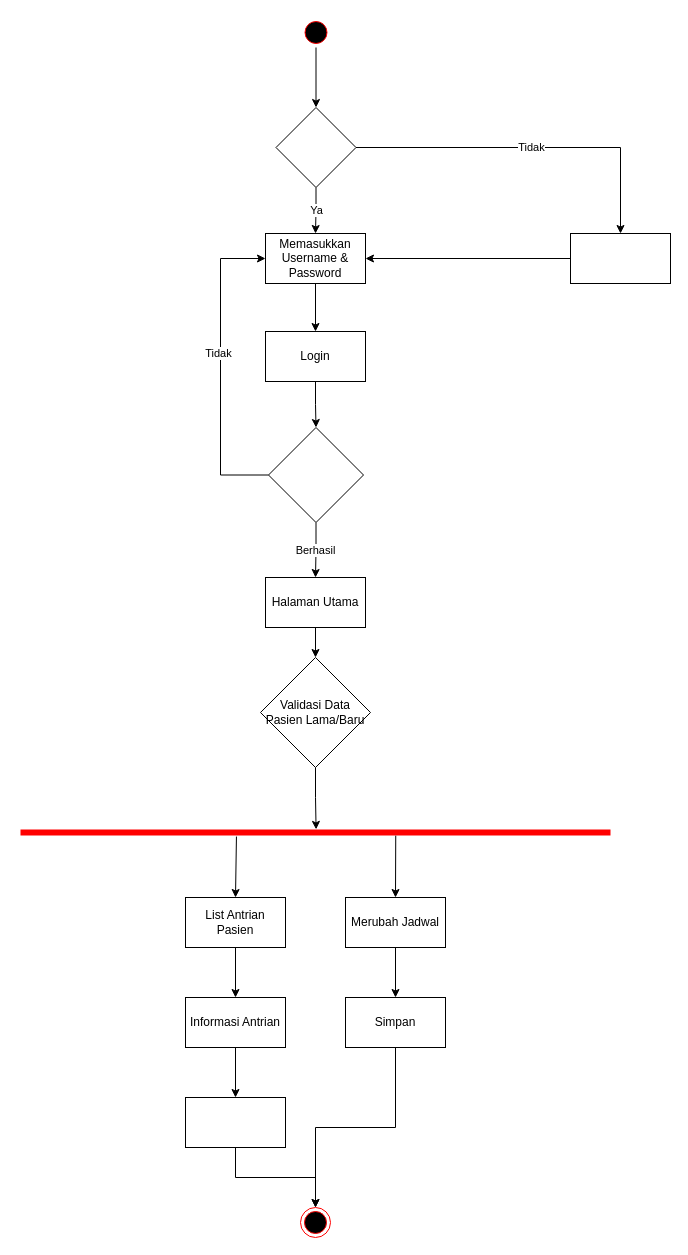
The diagram is 688 pixels wide and 1255 high, and some of its shapes have lost their labels. Each missing label, with the box of its shape:
Melakukan Pendaftaran Akun: (570, 232, 670, 284)
Melihat Detail Data Pasien: (184, 1096, 286, 1148)
Memiliki akun?: (275, 106, 356, 188)
Validasi Username & Password: (268, 426, 364, 522)
